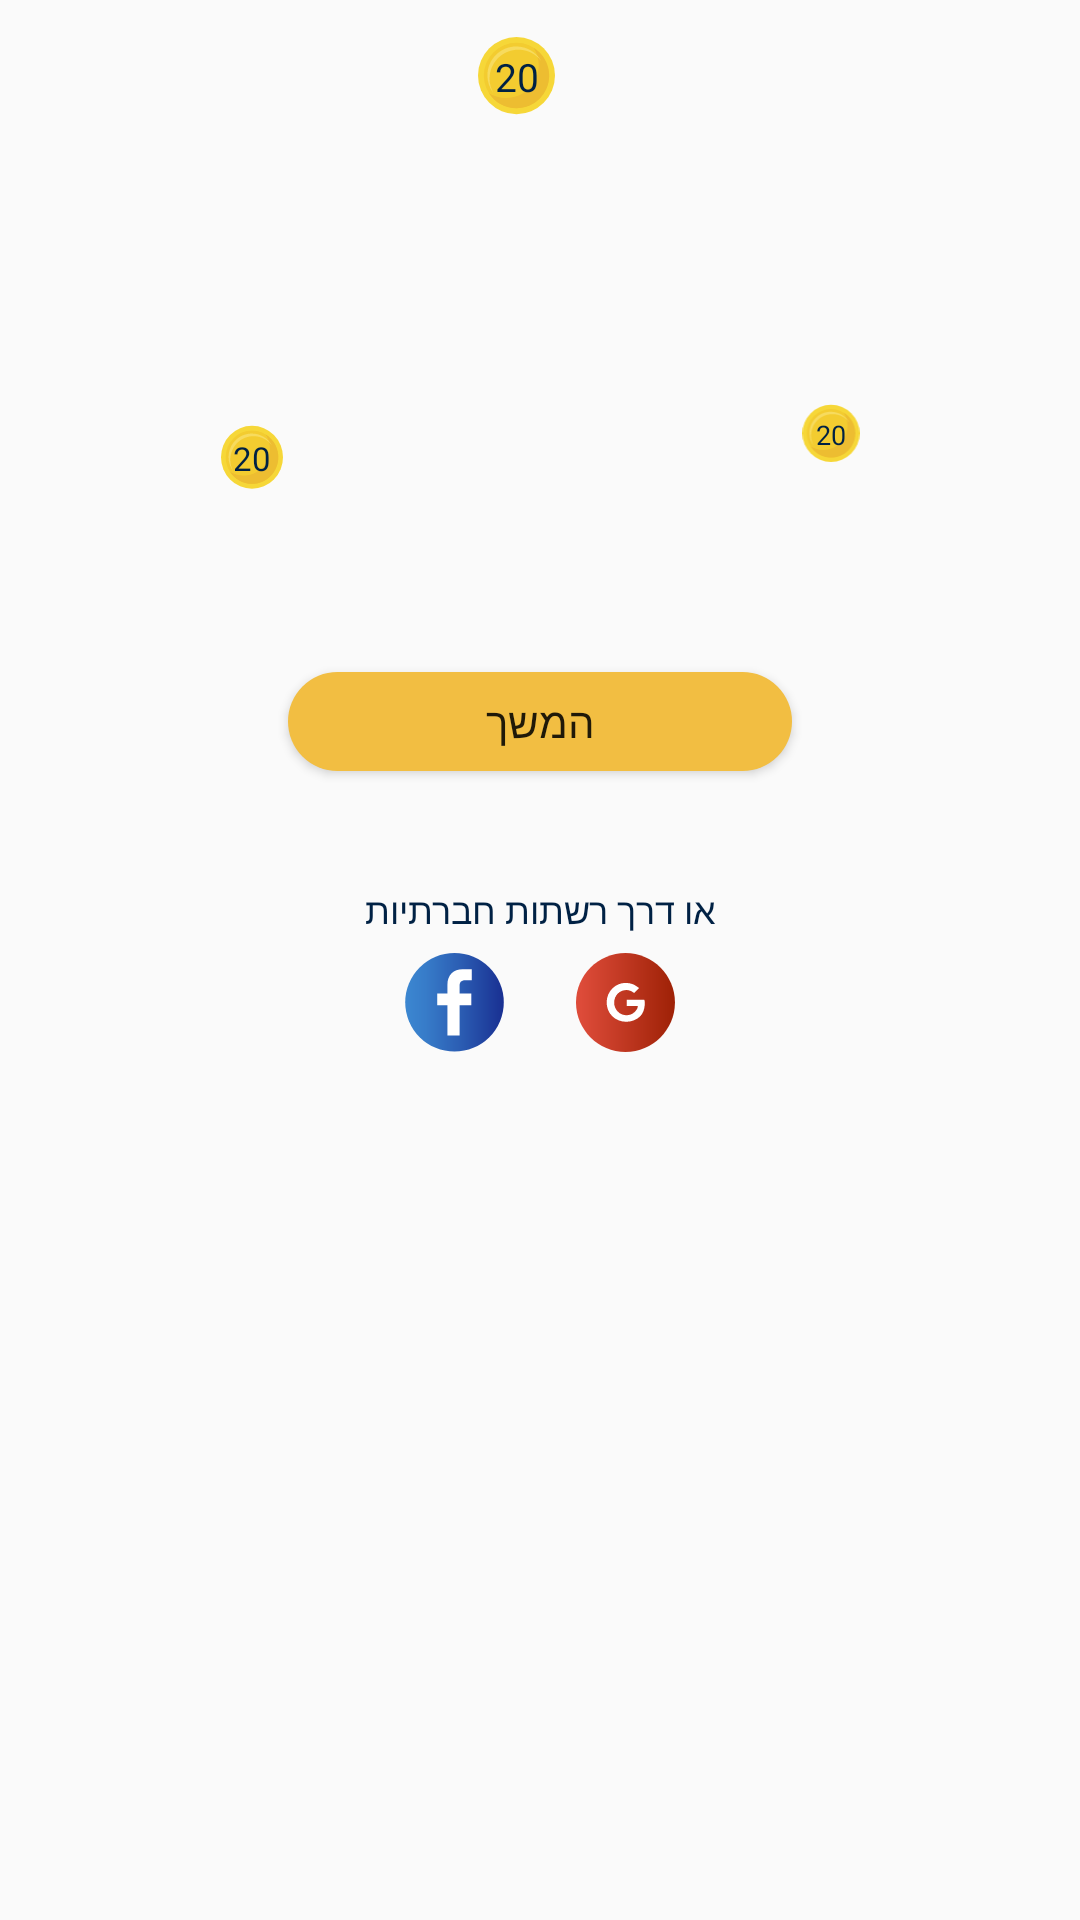

Screen size 1080px x 1920px. Icon name, then its center in pixels as [x,y]:
credit coin: [516,76], [831,433], [252,457]
